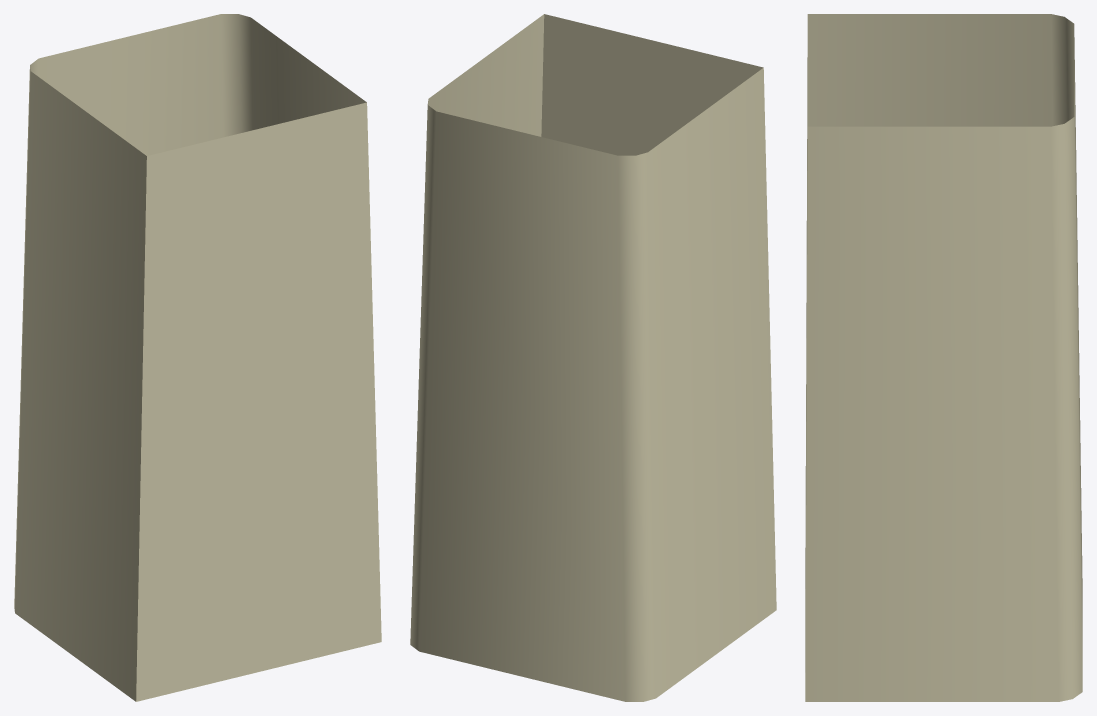
Rendered from props_upper_cheminee.fbx.
The picture shows the model from 3 angles, left to right: view 1: azimuth 30°, elevation 25°; view 2: azimuth 150°, elevation 25°; view 3: azimuth 270°, elevation 25°; orthographic projection. The views are drawn at different scales.
Parts seen in each view (by area): view 1: Cube.004; view 2: Cube.004; view 3: Cube.004.
Boxes of the visible parts, x1,y1,x2,y2 form: Cube.004: [14, 14, 381, 701]; Cube.004: [410, 14, 776, 701]; Cube.004: [805, 14, 1082, 701].
Size of the model in its own units: 1.72 by 1.61 by 3.63.
